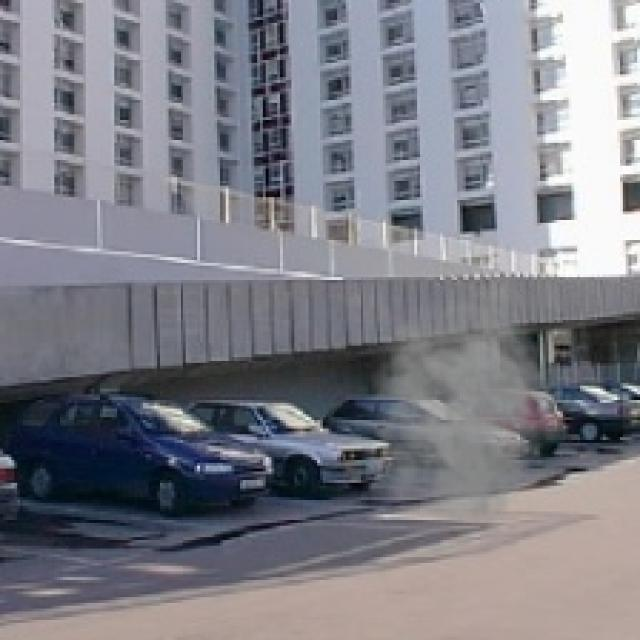smoke: (349, 286, 560, 551)
